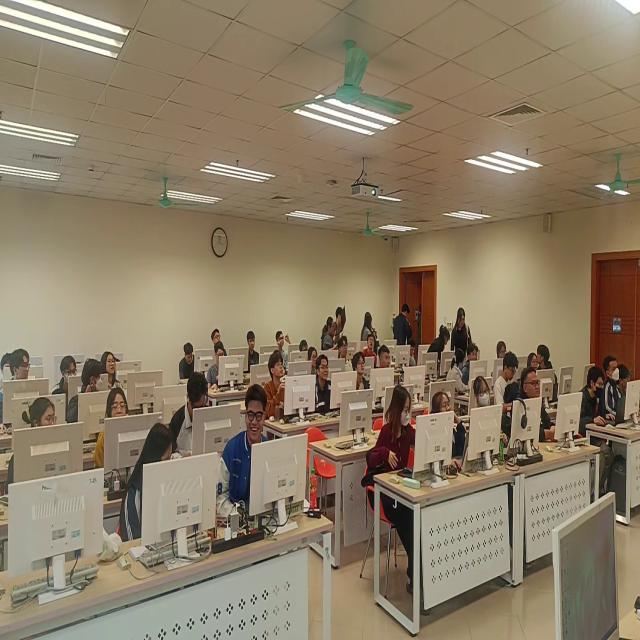raise_head: (516, 365, 557, 445), (472, 371, 510, 456), (431, 390, 467, 464), (263, 351, 289, 423), (314, 352, 334, 415), (352, 350, 372, 403), (101, 351, 119, 393), (276, 325, 293, 365), (247, 329, 262, 368), (363, 332, 379, 366), (378, 344, 394, 376), (307, 343, 319, 378), (338, 334, 351, 364), (528, 347, 540, 371), (212, 326, 223, 346)
stand: (391, 300, 414, 351), (453, 307, 473, 360), (426, 321, 451, 357), (320, 315, 336, 352), (361, 308, 377, 342)
using_computer: (373, 388, 421, 479), (93, 385, 131, 472), (579, 360, 613, 438), (603, 352, 626, 423), (495, 351, 520, 407), (53, 355, 81, 402), (207, 340, 230, 396), (176, 338, 197, 381), (1, 347, 13, 415), (620, 359, 634, 405), (495, 337, 509, 363), (300, 335, 310, 356)
